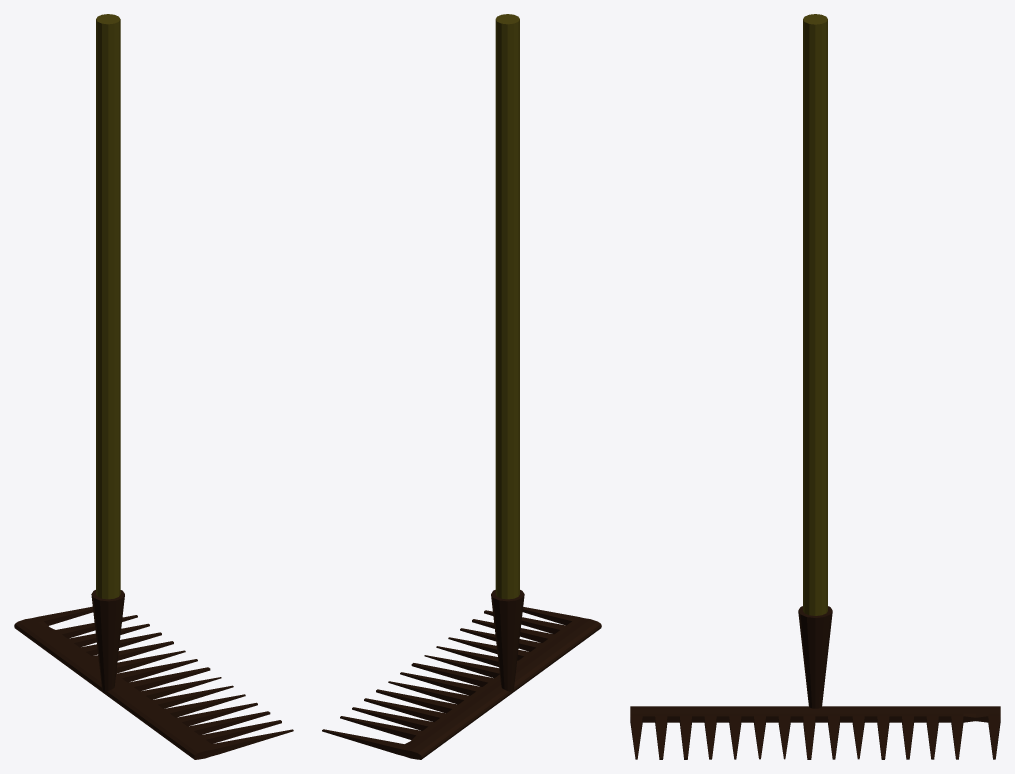
Rendered from rateau.glb.
3 views of the same model, side by side, from view 1: azimuth 30°, elevation 25°; view 2: azimuth 150°, elevation 25°; view 3: azimuth 270°, elevation 25° (orthographic). The views are drawn at different scales.
Visible parts, largest first — view 1: Cylinder, Cylinder.002, Cylinder.001; view 2: Cylinder, Cylinder.002, Cylinder.001; view 3: Cylinder, Cylinder.002, Cylinder.001.
Boxes of the visible parts, bbox=[...] form: Cylinder: bbox=[96, 14, 120, 599]; Cylinder.002: bbox=[14, 606, 293, 759]; Cylinder.001: bbox=[91, 590, 124, 691]; Cylinder: bbox=[495, 14, 519, 599]; Cylinder.002: bbox=[322, 607, 601, 759]; Cylinder.001: bbox=[491, 590, 524, 691]; Cylinder: bbox=[803, 14, 827, 615]; Cylinder.002: bbox=[630, 706, 1000, 759]; Cylinder.001: bbox=[798, 606, 832, 708].
Size of the model in its own units: 0.4899 by 2.81 by 1.36.
